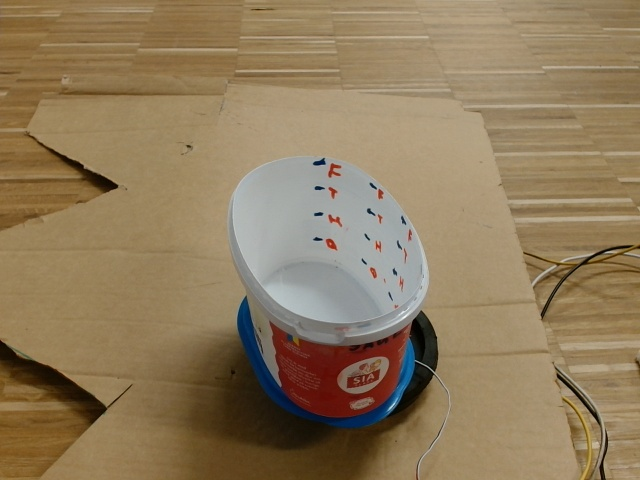Big_zero: (226, 153, 430, 341)
